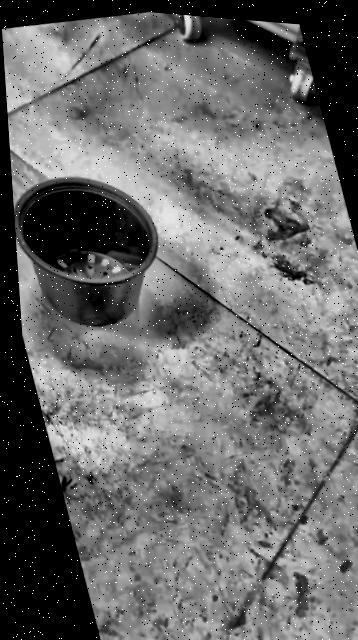pot: (11, 160, 179, 344)
